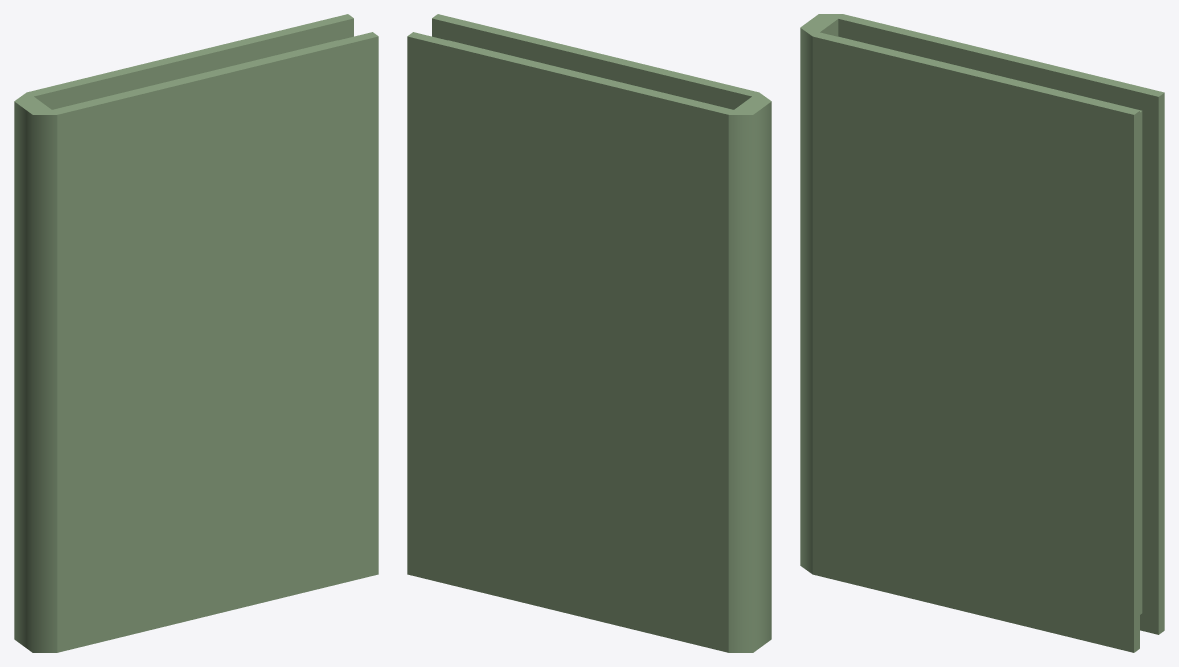
File: Book_V15.fbx
3 views of the same model, side by side, from view 1: azimuth 30°, elevation 25°; view 2: azimuth 150°, elevation 25°; view 3: azimuth 330°, elevation 25° (orthographic).
Parts seen in each view (by area): view 1: Book_V15; view 2: Book_V15; view 3: Book_V15.
Boxes of the visible parts, <box> form: Book_V15: <box>14,14,378,652</box>; Book_V15: <box>407,14,771,652</box>; Book_V15: <box>800,14,1164,652</box>.
Bounding box in the file's own units: 21.97 × 33.22 × 3.43.
